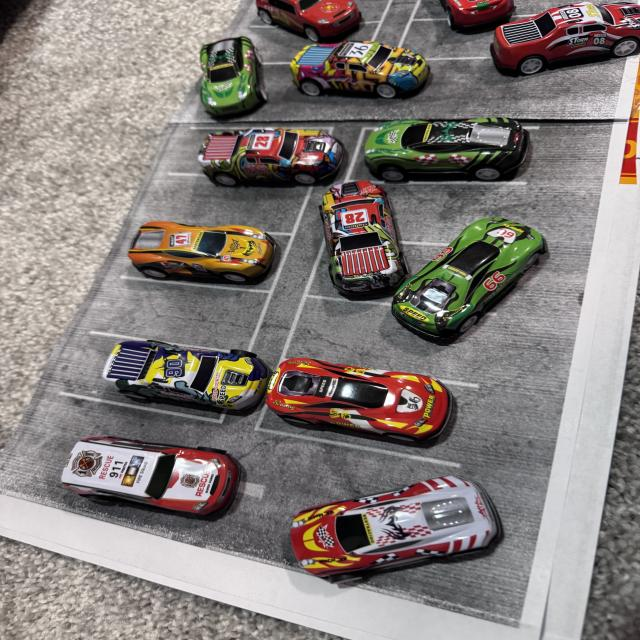Car: (56, 444, 292, 568), (267, 330, 488, 460), (397, 200, 536, 371), (269, 468, 473, 576), (75, 195, 281, 299), (294, 166, 412, 340), (94, 324, 284, 419), (286, 37, 470, 128), (330, 96, 520, 182), (494, 0, 636, 82), (174, 123, 351, 182), (196, 29, 266, 144)
